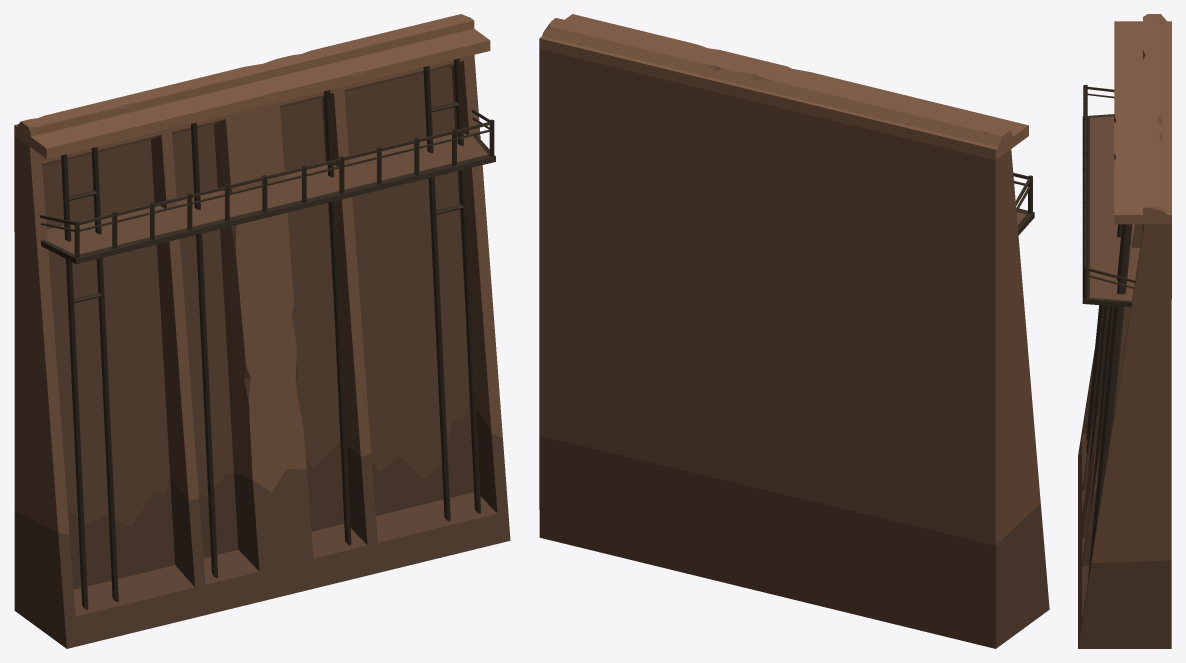
Rendered from SM_Env_Port_Drydock_Large_NoRail_01.fbx.
3 renders of one model, left to right at view 1: azimuth 30°, elevation 25°; view 2: azimuth 150°, elevation 25°; view 3: azimuth 270°, elevation 25°, orthographic. The views are drawn at different scales.
Visible parts, largest first — view 1: SM_Env_Port_Drydock_Large_NoRail_01; view 2: SM_Env_Port_Drydock_Large_NoRail_01; view 3: SM_Env_Port_Drydock_Large_NoRail_01.
Part boxes in pixels (<box>): SM_Env_Port_Drydock_Large_NoRail_01: <box>14,14,510,648</box>; SM_Env_Port_Drydock_Large_NoRail_01: <box>539,14,1049,648</box>; SM_Env_Port_Drydock_Large_NoRail_01: <box>1078,14,1171,648</box>.
Size of the model in its own units: 1000 by 1063 by 205.
